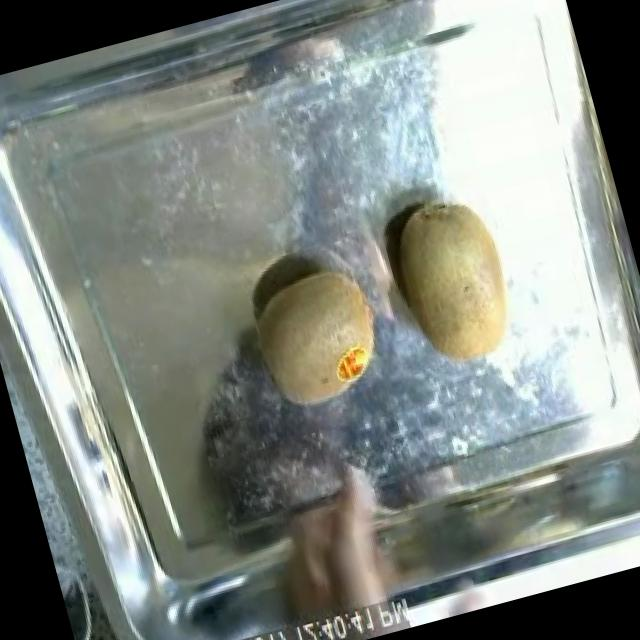Fruit: (371, 176, 538, 386), (231, 246, 407, 427)
